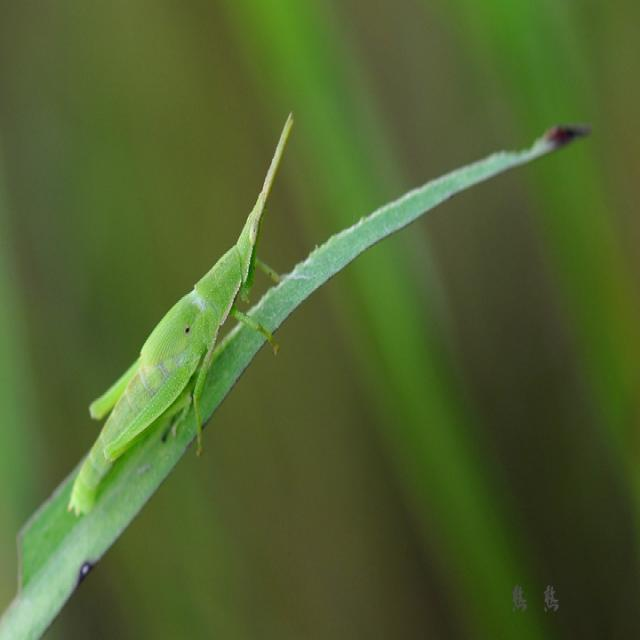ZhaMeng: (48, 110, 306, 539)
